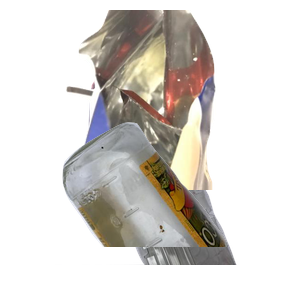glass: (60, 120, 300, 300)
metal: (82, 66, 270, 246)
plastic: (55, 120, 284, 300)
trash: (63, 10, 300, 190)
